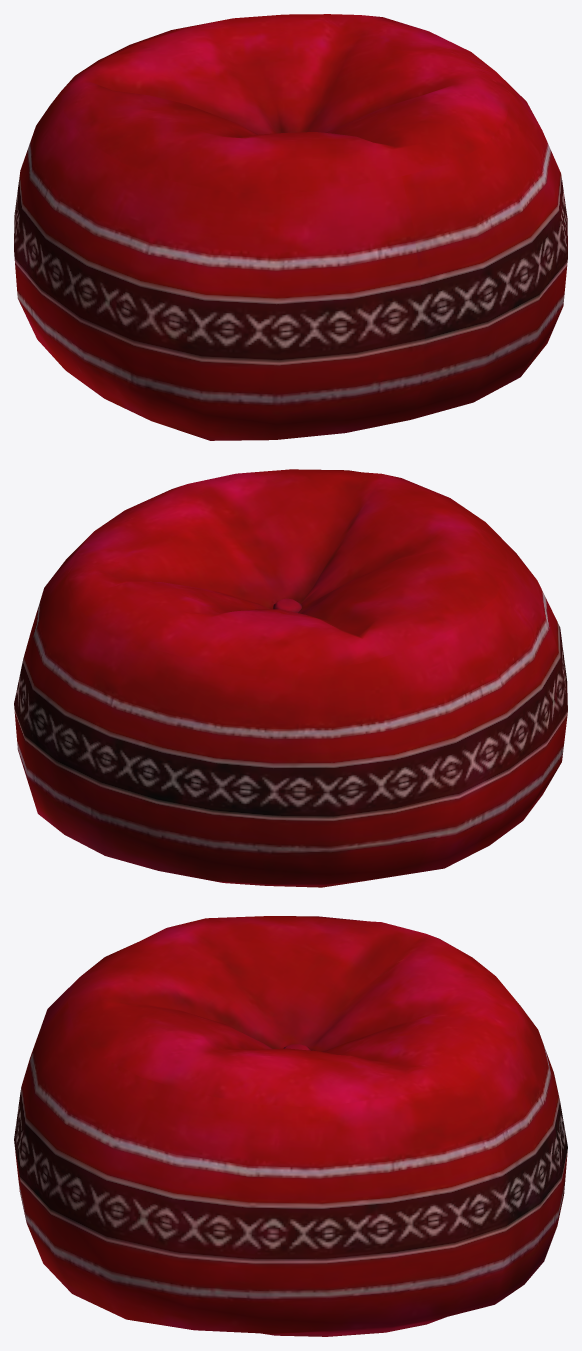
3 views of the same model, one above another, from view 1: azimuth 30°, elevation 25°; view 2: azimuth 150°, elevation 25°; view 3: azimuth 270°, elevation 25° (orthographic). The views are drawn at different scales.
Parts seen in each view (by area): view 1: SM_Moon_Garou_Seat_01v1_LOD0; view 2: SM_Moon_Garou_Seat_01v1_LOD0; view 3: SM_Moon_Garou_Seat_01v1_LOD0.
Part boxes in pixels (box(x1,y1,x2,y2)): SM_Moon_Garou_Seat_01v1_LOD0: box(14, 14, 567, 440); SM_Moon_Garou_Seat_01v1_LOD0: box(14, 469, 567, 887); SM_Moon_Garou_Seat_01v1_LOD0: box(14, 916, 567, 1336).
Size of the model in its own units: 1.04 by 0.5548 by 1.06.
Materials: 1 (1 with a texture image).
